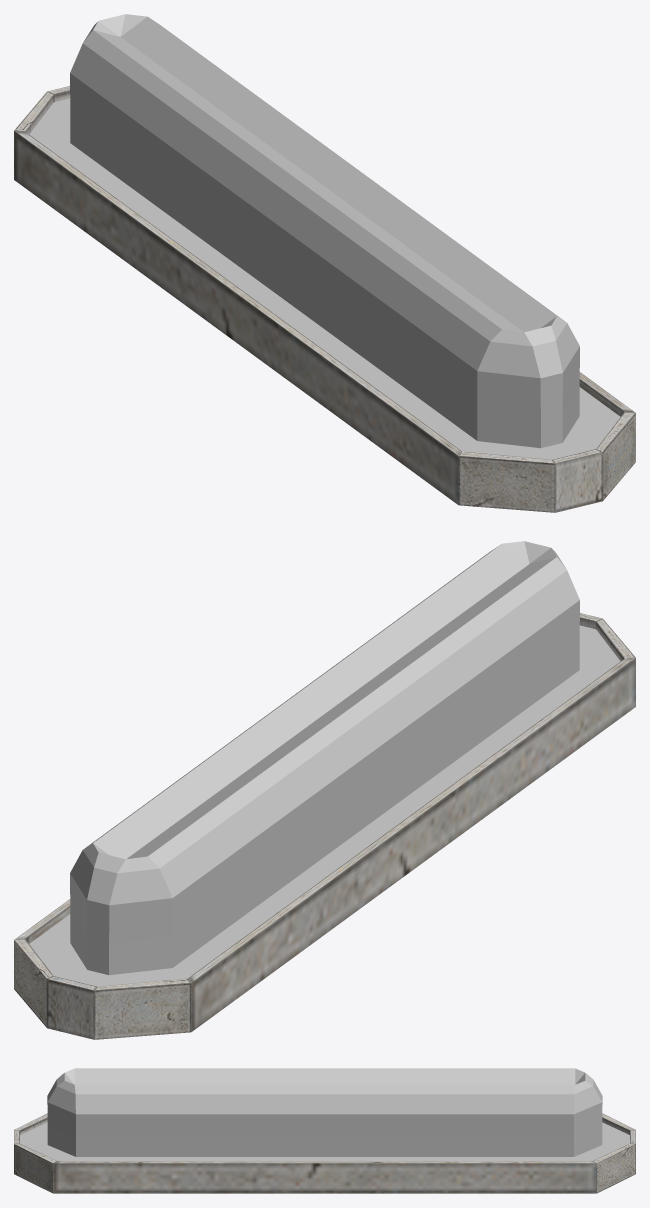
File: SM_SYD_Fountain_Long01.fbx
3 views of the same model, one above another, from view 1: azimuth 30°, elevation 25°; view 2: azimuth 150°, elevation 25°; view 3: azimuth 270°, elevation 25° (orthographic). The views are drawn at different scales.
Parts seen in each view (by area): view 1: SM_SYD_Fountain_Long01; view 2: SM_SYD_Fountain_Long01; view 3: SM_SYD_Fountain_Long01.
Part boxes in pixels (x1,y1,x2,y2): SM_SYD_Fountain_Long01: [14, 14, 635, 512]; SM_SYD_Fountain_Long01: [14, 541, 635, 1039]; SM_SYD_Fountain_Long01: [14, 1068, 635, 1193].
Bounding box in the file's own units: 299 × 238 × 1485.
